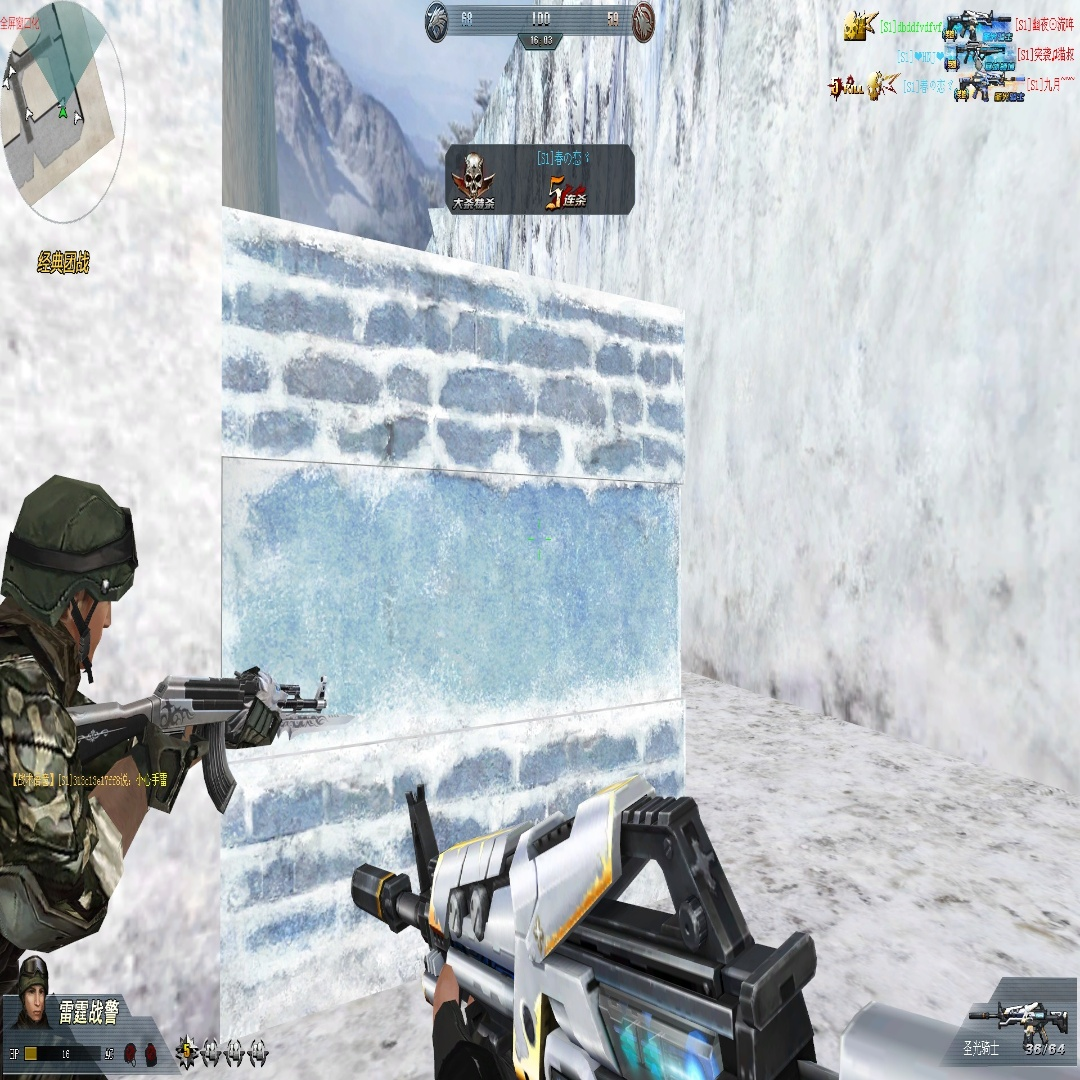t: (1, 477, 240, 1014)
